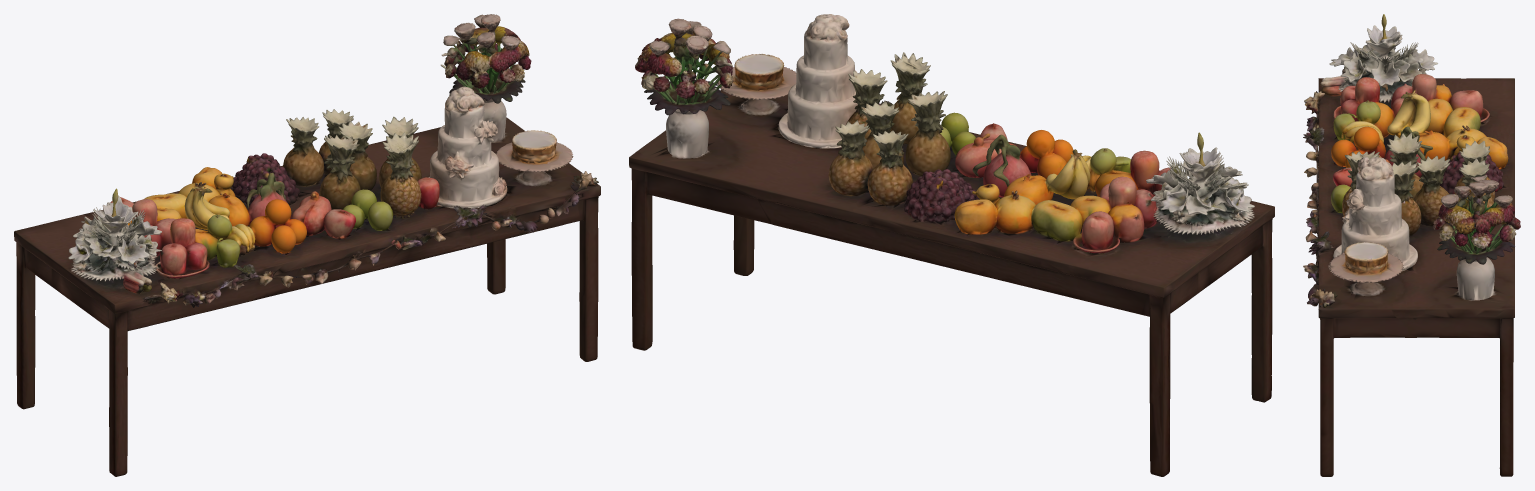
Rendered from Incense-Table.glb.
3 views of the same model, side by side, from view 1: azimuth 30°, elevation 25°; view 2: azimuth 150°, elevation 25°; view 3: azimuth 270°, elevation 25° (orthographic). The views are drawn at different scales.
Visible parts, largest first — view 1: tripo_node_467ce4aa-cafb-41cf-9328-bd628983c17e; view 2: tripo_node_467ce4aa-cafb-41cf-9328-bd628983c17e; view 3: tripo_node_467ce4aa-cafb-41cf-9328-bd628983c17e.
Boxes of the visible parts, x1,y1,x2,y2 form: tripo_node_467ce4aa-cafb-41cf-9328-bd628983c17e: (14, 14, 600, 476); tripo_node_467ce4aa-cafb-41cf-9328-bd628983c17e: (629, 14, 1274, 476); tripo_node_467ce4aa-cafb-41cf-9328-bd628983c17e: (1303, 14, 1520, 476).
Size of the model in its own units: 0.9795 by 0.5338 by 0.3742.
1 material, 1 textured.
